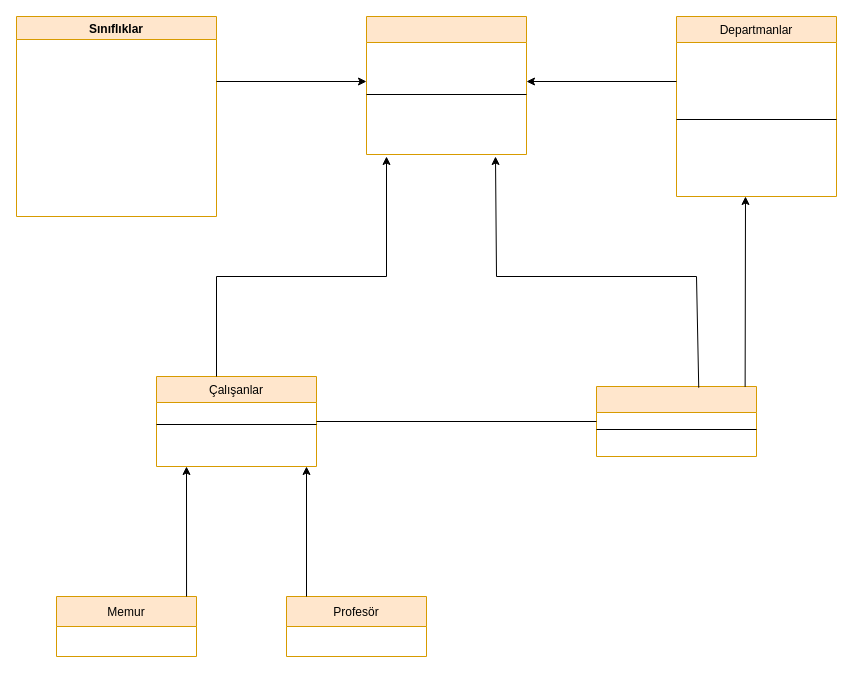
Image size: 853x673. Some labels were removed from this diagram. Each missing label, with the centre of its shape:
Çalışma Ofisleri: [676,421]
Üniversite: [446,85]
